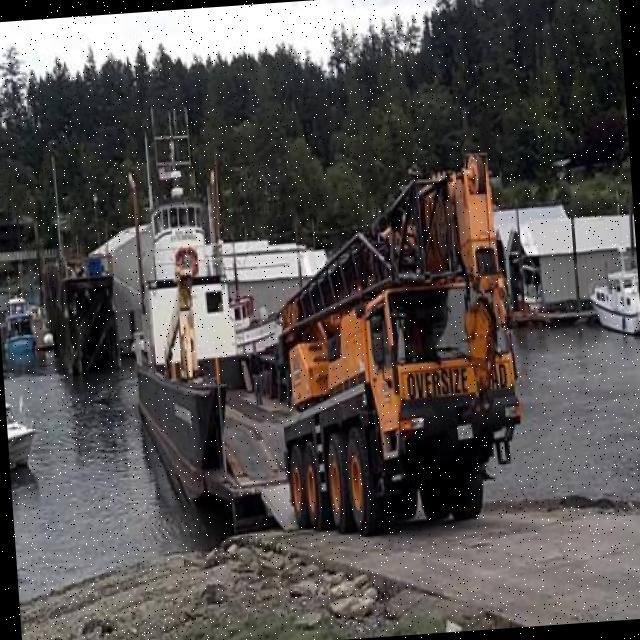Mobile Crane: (264, 154, 524, 534)
